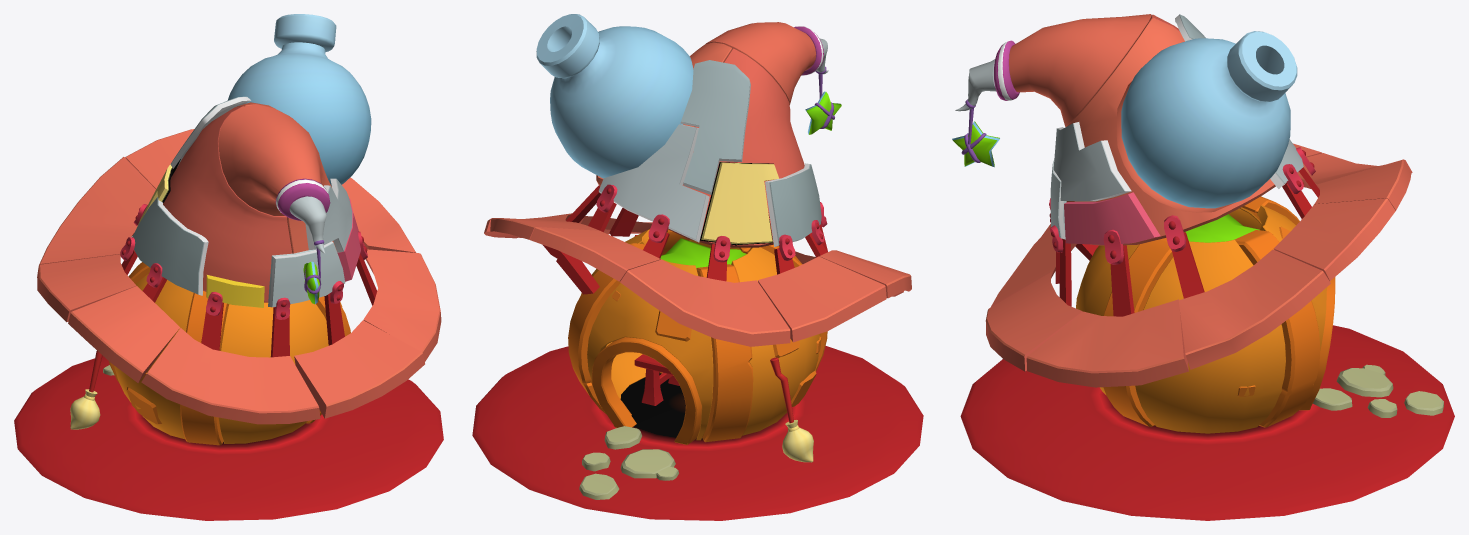
Rendered from lvl_10.fbx.
3 renders of one model, left to right at view 1: azimuth 30°, elevation 25°; view 2: azimuth 150°, elevation 25°; view 3: azimuth 270°, elevation 25°, orthographic. The views are drawn at different scales.
Visible parts, largest first — view 1: LV5_Witch_House2_13, LV4_Witch_House2_4, LV4_Witch_House2_5, LV2_Witch_House2_9, LV4_Witch_House2_2, LV2_Witch_House2_10, LV2_Witch_House2_3, LV2_Witch_House2_7, LV2_Witch_House2_12, LV5_Witch_House2_2, LV3_Witch_House2_15, LV2_Witch_House2_5 (+20 smaller); view 2: LV5_Witch_House2_13, LV4_Witch_House2_4, LV2_Witch_House2_3, LV3_Witch_House2_13, LV2_Witch_House2_5, LV5_Witch_House2_4, LV3_Witch_House2_12, LV5_Witch_House2_3, LV4_Witch_House2_5, LV3_Witch_House2_14, LV5_Witch_House2_9, LV5_Witch_House2_12 (+21 smaller); view 3: LV5_Witch_House2_13, LV4_Witch_House2_4, LV5_Witch_House2_5, LV2_Witch_House2_12, LV2_Witch_House2_16, LV4_Witch_House2_2, LV4_Witch_House2_1, LV2_Witch_House2_18, LV2_Witch_House2_10, LV5_Witch_House2_10, LV3_Witch_House2_19, LV3_Witch_House2_18 (+20 smaller).
Part boxes in pixels (box(x1,y1,x2,y2)): LV5_Witch_House2_13: box(14, 356, 443, 520); LV4_Witch_House2_4: box(227, 14, 371, 185); LV4_Witch_House2_5: box(163, 106, 292, 302); LV2_Witch_House2_9: box(141, 328, 320, 424); LV4_Witch_House2_2: box(218, 104, 322, 215); LV2_Witch_House2_10: box(294, 320, 424, 418); LV2_Witch_House2_3: box(39, 157, 155, 264); LV2_Witch_House2_7: box(68, 286, 179, 382); LV2_Witch_House2_12: box(363, 249, 441, 361); LV5_Witch_House2_2: box(218, 300, 328, 443); LV3_Witch_House2_15: box(132, 197, 208, 295); LV2_Witch_House2_5: box(37, 254, 136, 322); LV5_Witch_House2_13: box(472, 346, 923, 520); LV4_Witch_House2_4: box(536, 14, 693, 178); LV2_Witch_House2_3: box(620, 259, 790, 346); LV3_Witch_House2_13: box(680, 60, 750, 194); LV2_Witch_House2_5: box(758, 256, 886, 342); LV5_Witch_House2_4: box(587, 259, 713, 440); LV3_Witch_House2_12: box(598, 124, 709, 242); LV5_Witch_House2_3: box(731, 247, 821, 435); LV4_Witch_House2_5: box(668, 48, 804, 247); LV3_Witch_House2_14: box(700, 162, 778, 245); LV5_Witch_House2_9: box(696, 264, 753, 442); LV5_Witch_House2_12: box(591, 337, 701, 444); LV5_Witch_House2_13: box(960, 325, 1454, 520); LV4_Witch_House2_4: box(1121, 31, 1297, 208); LV5_Witch_House2_5: box(1135, 239, 1285, 433); LV2_Witch_House2_12: box(1026, 299, 1188, 387); LV2_Witch_House2_16: box(1178, 249, 1330, 369); LV4_Witch_House2_2: box(1009, 14, 1151, 126); LV4_Witch_House2_1: box(1066, 18, 1275, 245); LV2_Witch_House2_18: box(1273, 198, 1395, 280); LV2_Witch_House2_10: box(985, 272, 1082, 371); LV5_Witch_House2_10: box(1234, 230, 1320, 427); LV3_Witch_House2_19: box(1053, 122, 1131, 201); LV3_Witch_House2_18: box(1064, 192, 1160, 244).
Size of the model in its own units: 12.94 by 12.56 by 13.17.
